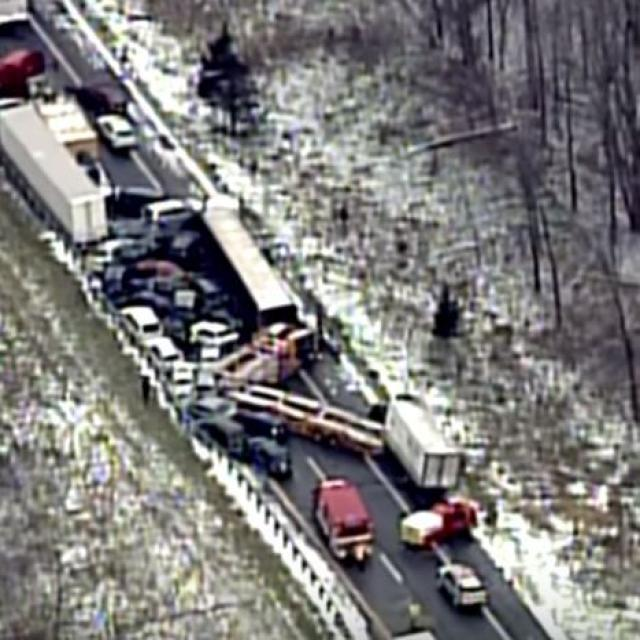traffic_incident: (88, 174, 341, 430)
